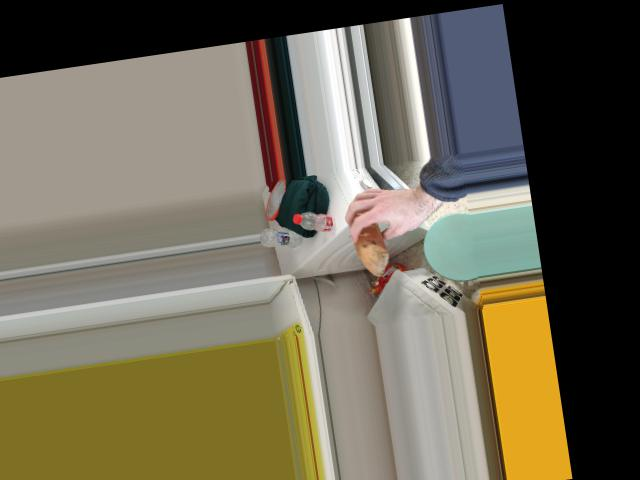sweet_potato: (354, 215, 382, 265)
